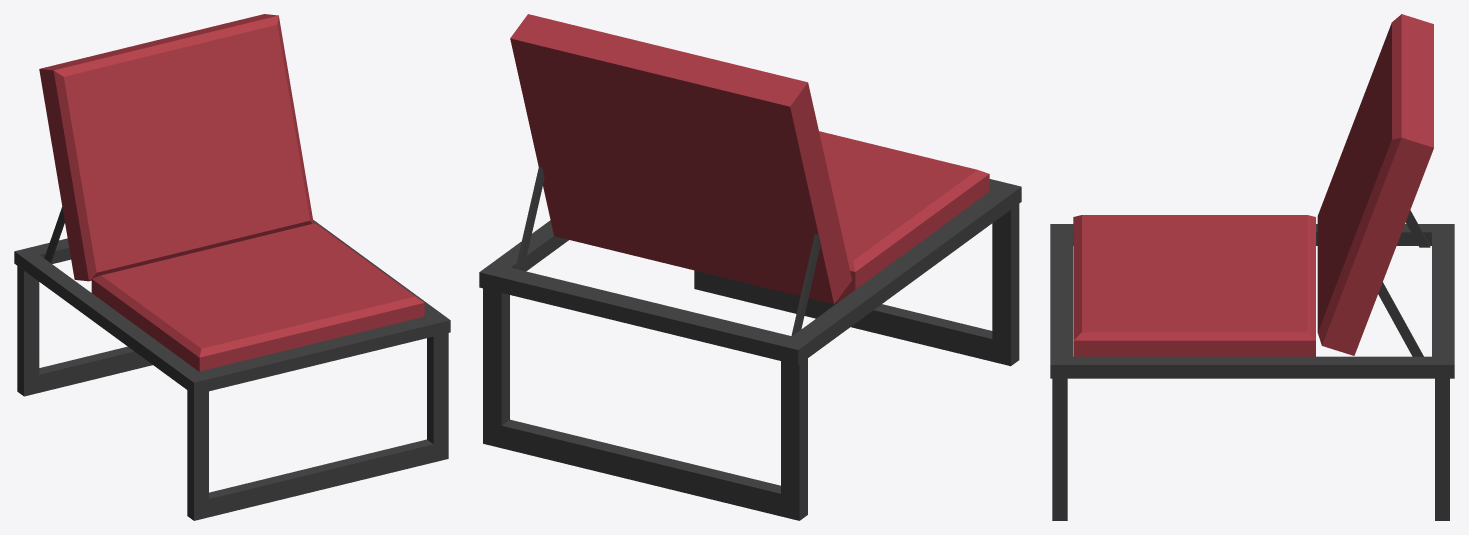
The model's file is Garden_Chair_2_Red_vc.fbx.
The picture shows the model from 3 angles, left to right: view 1: azimuth 30°, elevation 25°; view 2: azimuth 150°, elevation 25°; view 3: azimuth 270°, elevation 25°; orthographic projection. The views are drawn at different scales.
Visible parts, largest first — view 1: Garden_Chair_2_Red_vc; view 2: Garden_Chair_2_Red_vc; view 3: Garden_Chair_2_Red_vc.
Part boxes in pixels (box(x1,y1,x2,y2)): Garden_Chair_2_Red_vc: box(14, 14, 450, 520); Garden_Chair_2_Red_vc: box(479, 14, 1021, 520); Garden_Chair_2_Red_vc: box(1050, 14, 1454, 520).
Bounding box in the file's own units: 202 × 251 × 245.
